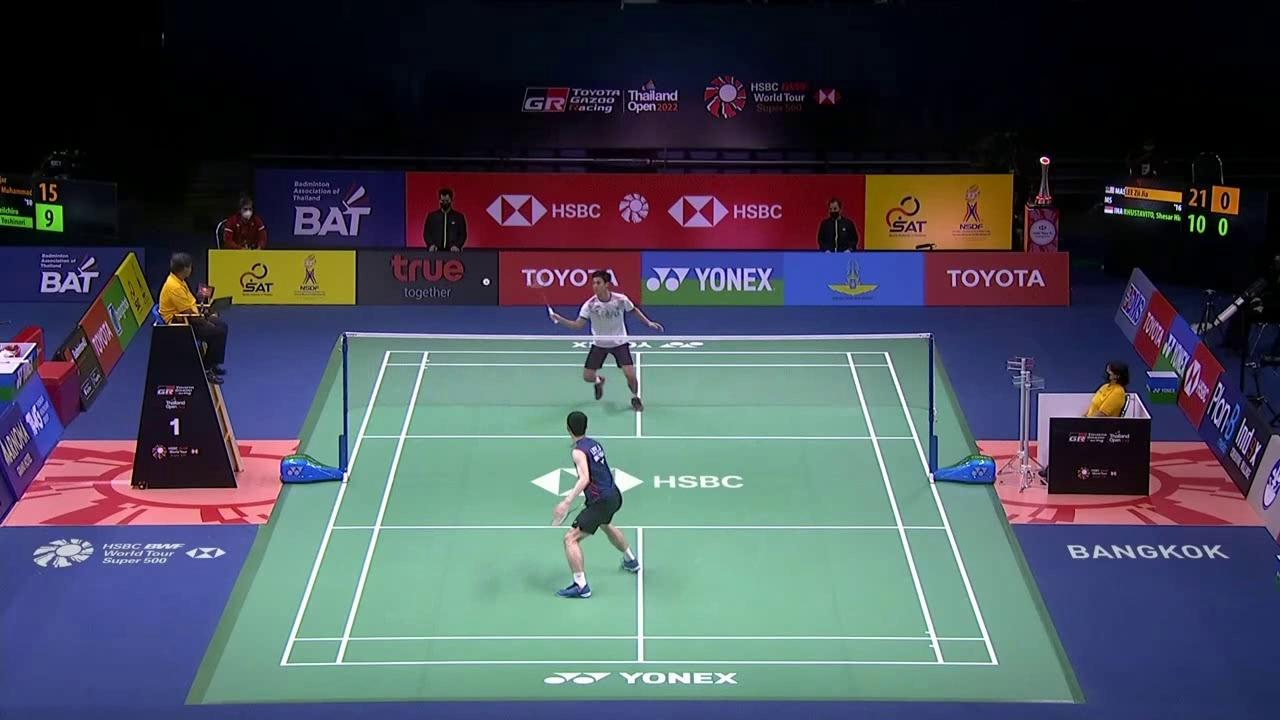racket: (526, 267, 558, 324), (551, 495, 593, 527)
shuttle: (482, 278, 491, 286)
